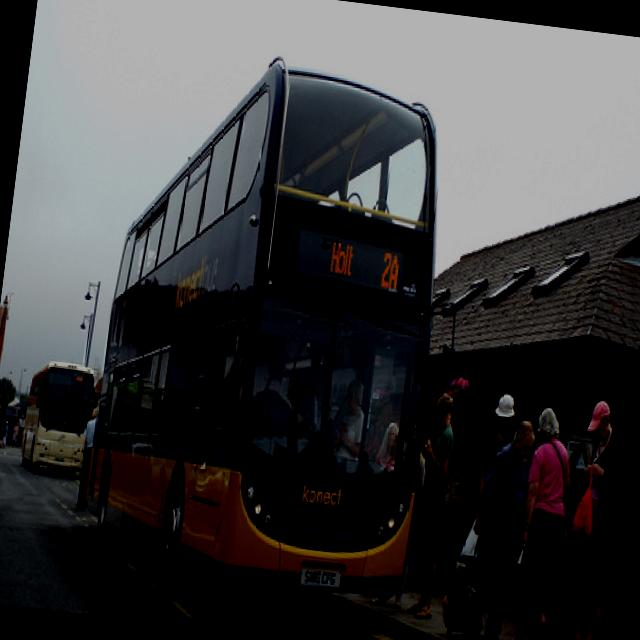Vehicle: (70, 42, 466, 616), (17, 358, 100, 474)
